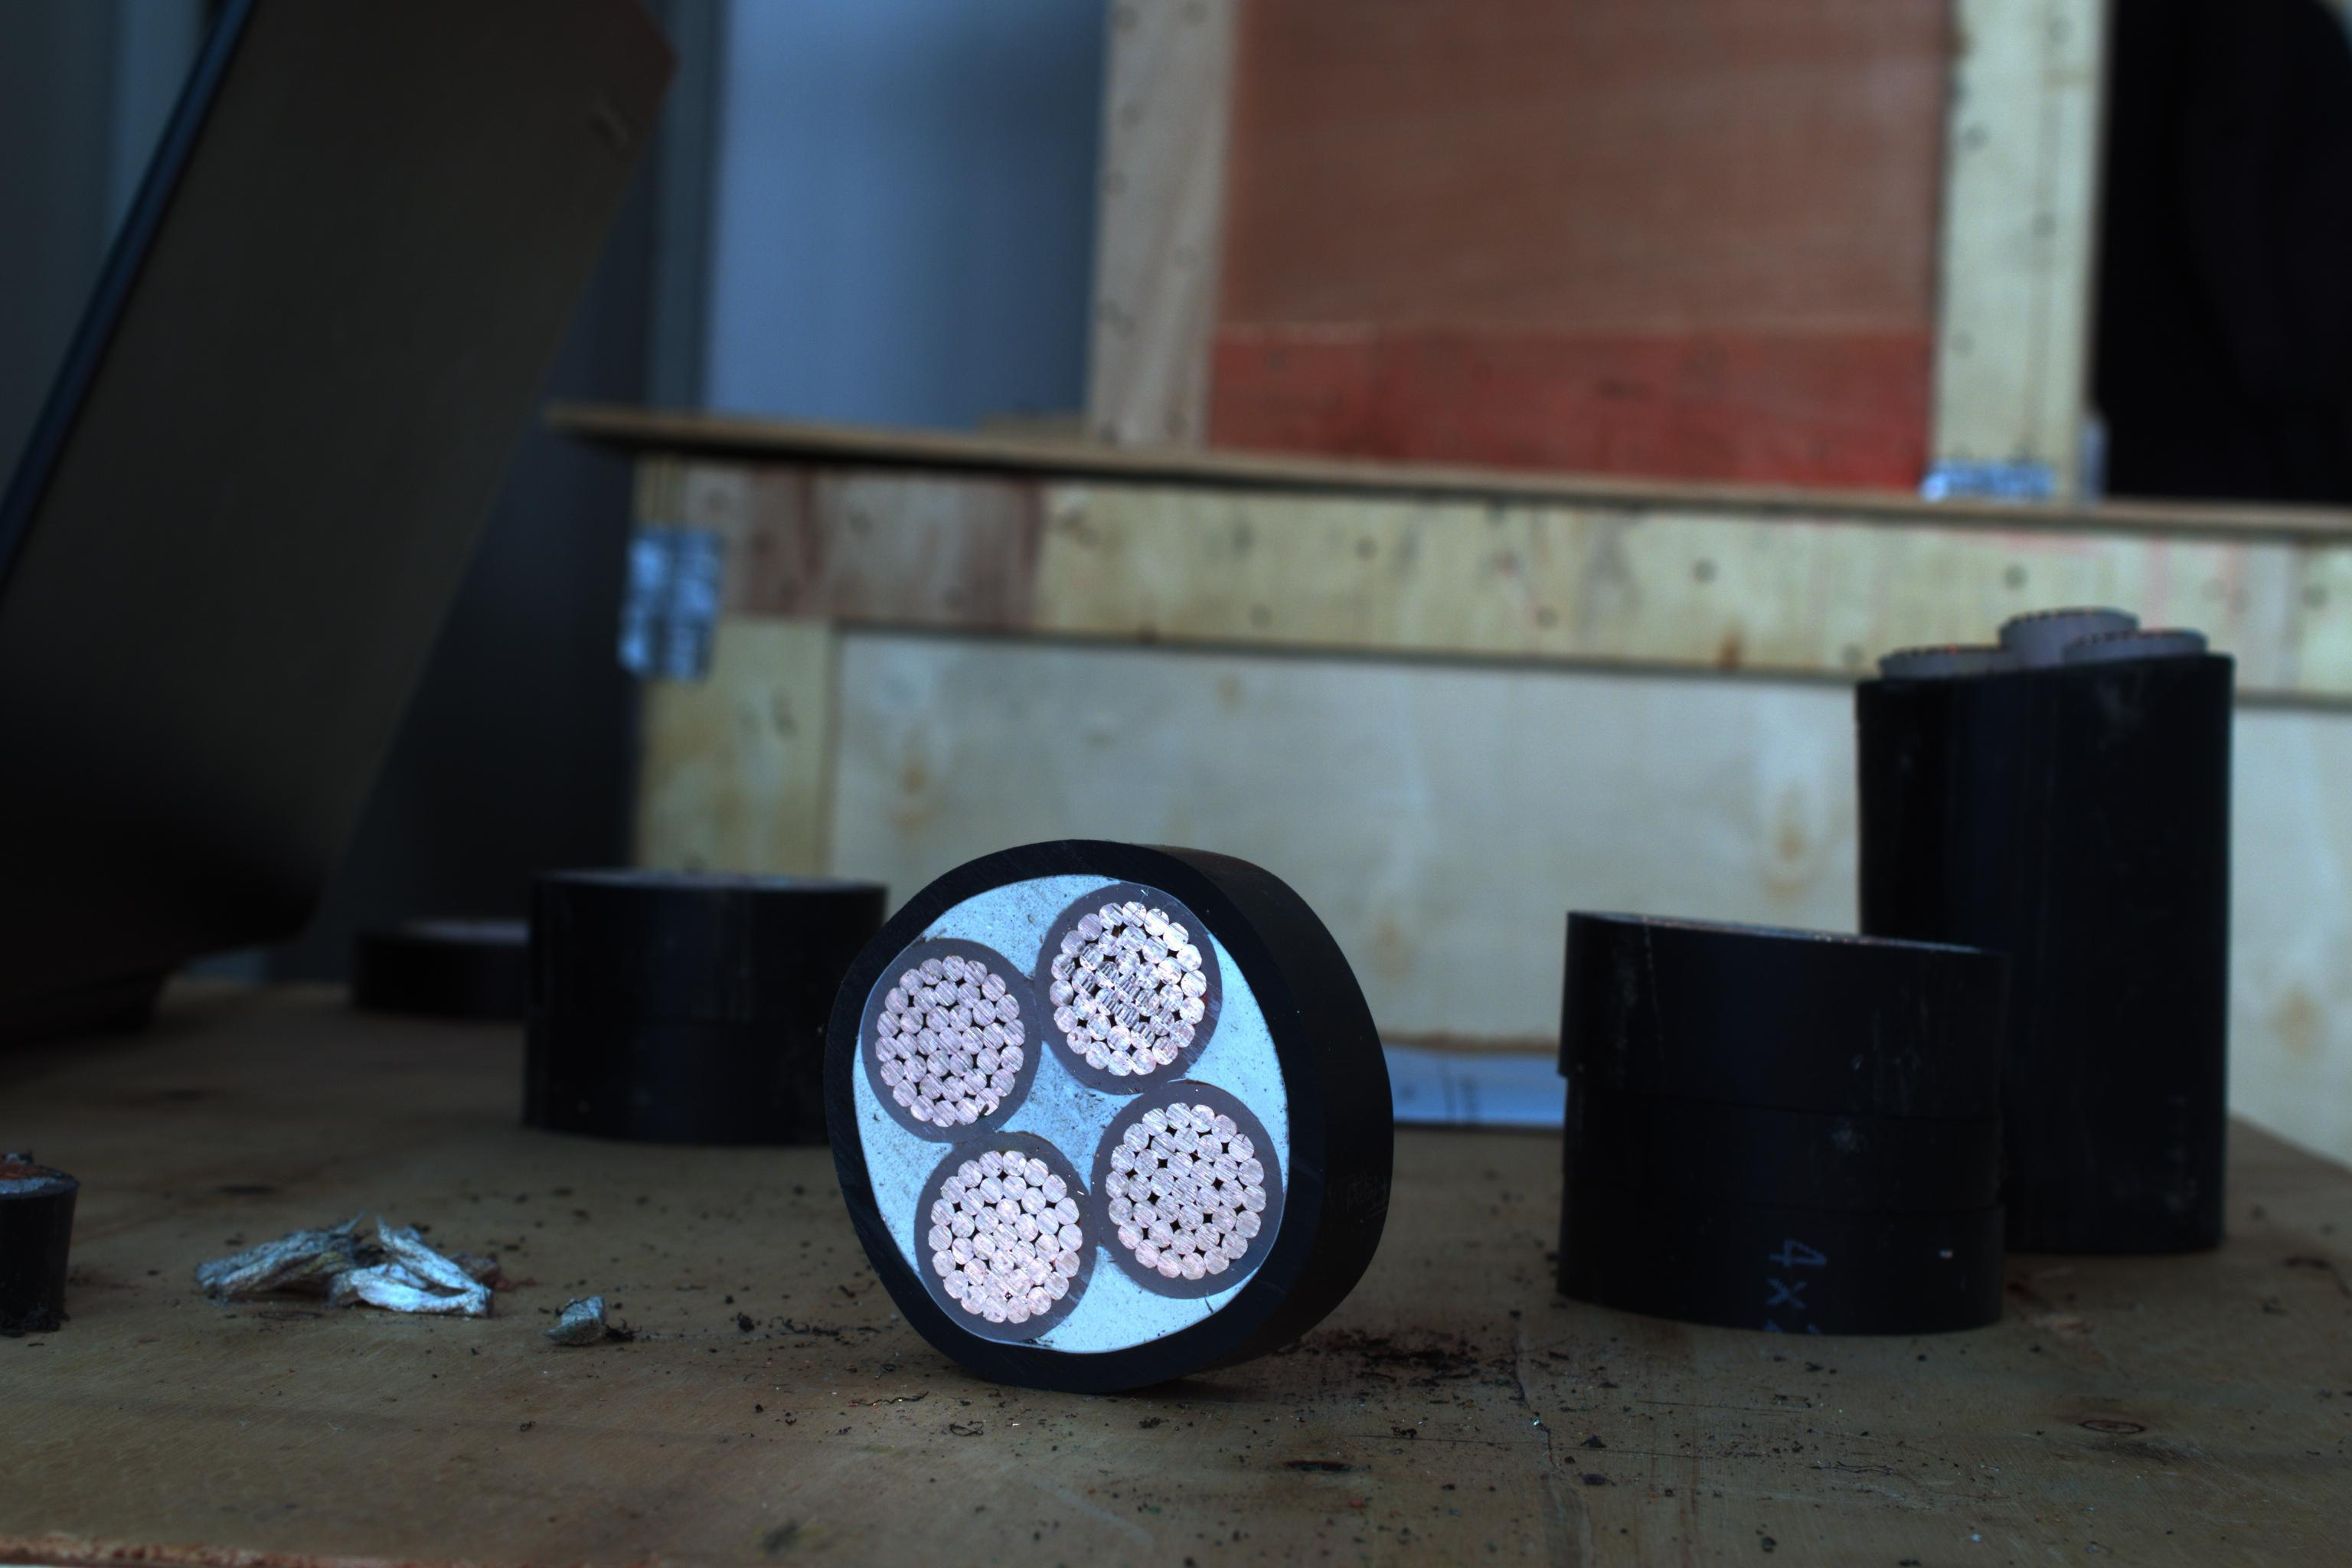YJV_0.6_1kV_4x240: (819, 836, 1302, 1356)
